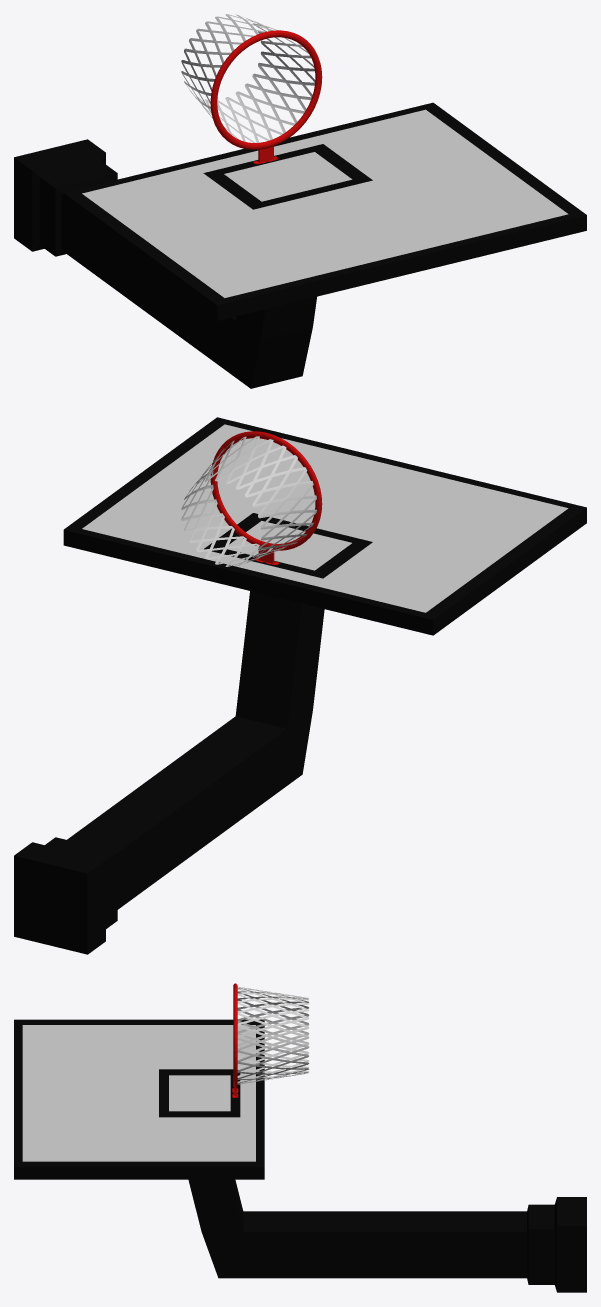
The model's file is low_poly_basketball_hoop.fbx.
3 views of the same model, one above another, from view 1: azimuth 30°, elevation 25°; view 2: azimuth 150°, elevation 25°; view 3: azimuth 270°, elevation 25° (orthographic). The views are drawn at different scales.
Parts seen in each view (by area): view 1: Cube_0; view 2: Cube_0; view 3: Cube_0.
Part boxes in pixels (x1=…): Cube_0: x1=14, y1=14, x2=586, y2=388; Cube_0: x1=14, y1=417, x2=586, y2=954; Cube_0: x1=14, y1=983, x2=586, y2=1292.
Size of the model in its own units: 2.78 by 2.55 by 4.57.
